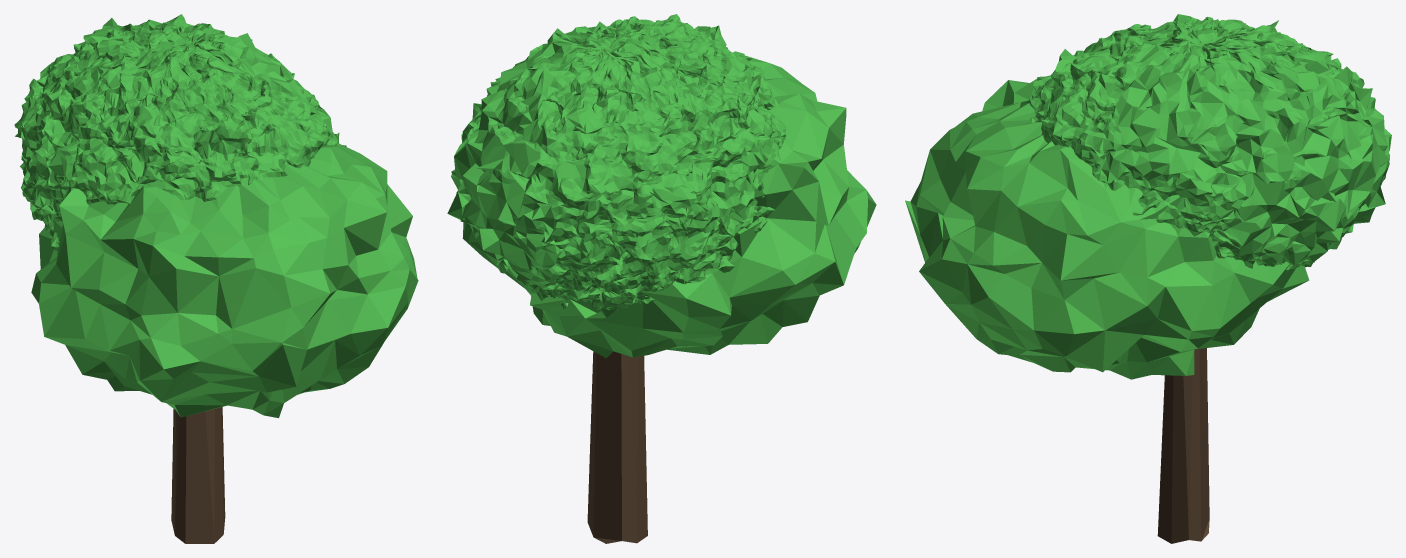
The model's file is apple_tree.fbx.
The picture shows the model from 3 angles, left to right: view 1: azimuth 30°, elevation 25°; view 2: azimuth 150°, elevation 25°; view 3: azimuth 270°, elevation 25°; orthographic projection. The views are drawn at different scales.
Parts seen in each view (by area): view 1: apple_tree; view 2: apple_tree; view 3: apple_tree.
Part boxes in pixels (x1,y1,x2,y2): apple_tree: [14, 14, 418, 543]; apple_tree: [447, 14, 876, 543]; apple_tree: [905, 14, 1391, 543].
Size of the model in its own units: 513 by 697 by 616.
